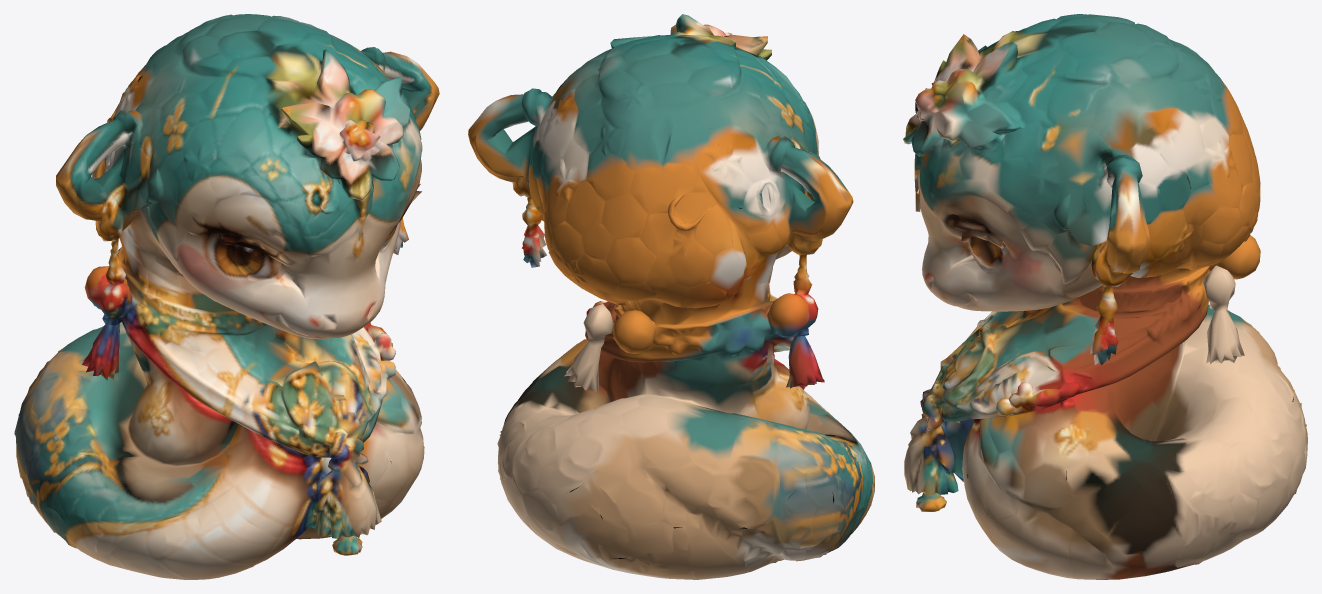
Rendered from snake_roblox.glb.
The picture shows the model from 3 angles, left to right: view 1: azimuth 30°, elevation 25°; view 2: azimuth 150°, elevation 25°; view 3: azimuth 270°, elevation 25°; orthographic projection. The views are drawn at different scales.
Visible parts, largest first — view 1: MoonSnake_Part002, MoonSnake_Eyes; view 2: MoonSnake_Part002; view 3: MoonSnake_Part002.
Part boxes in pixels (x1,y1,x2,y2): MoonSnake_Part002: (14,14,439,579); MoonSnake_Eyes: (289,214,374,299); MoonSnake_Part002: (468,14,874,579); MoonSnake_Part002: (903,14,1307,579).
Bounding box in the file's own units: 2.23 × 2.65 × 1.92.
Materials: 1 (1 with a texture image).
